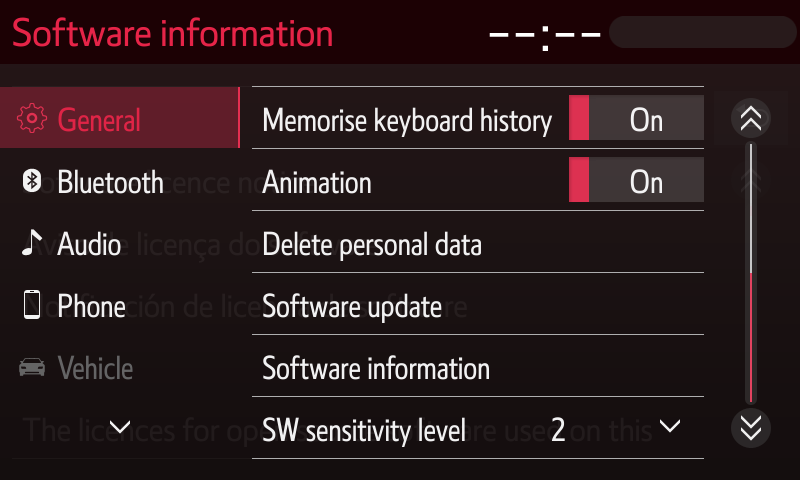touchPart: (242, 387, 705, 465), (247, 329, 703, 405), (252, 80, 707, 155), (250, 144, 707, 218), (249, 270, 706, 340), (250, 209, 709, 276), (11, 157, 171, 209), (14, 219, 143, 262), (14, 286, 137, 329), (730, 406, 774, 456), (727, 94, 771, 138), (106, 411, 137, 441)
untouchPart: (2, 82, 243, 149), (485, 11, 794, 55), (14, 13, 345, 52), (15, 349, 135, 390)
